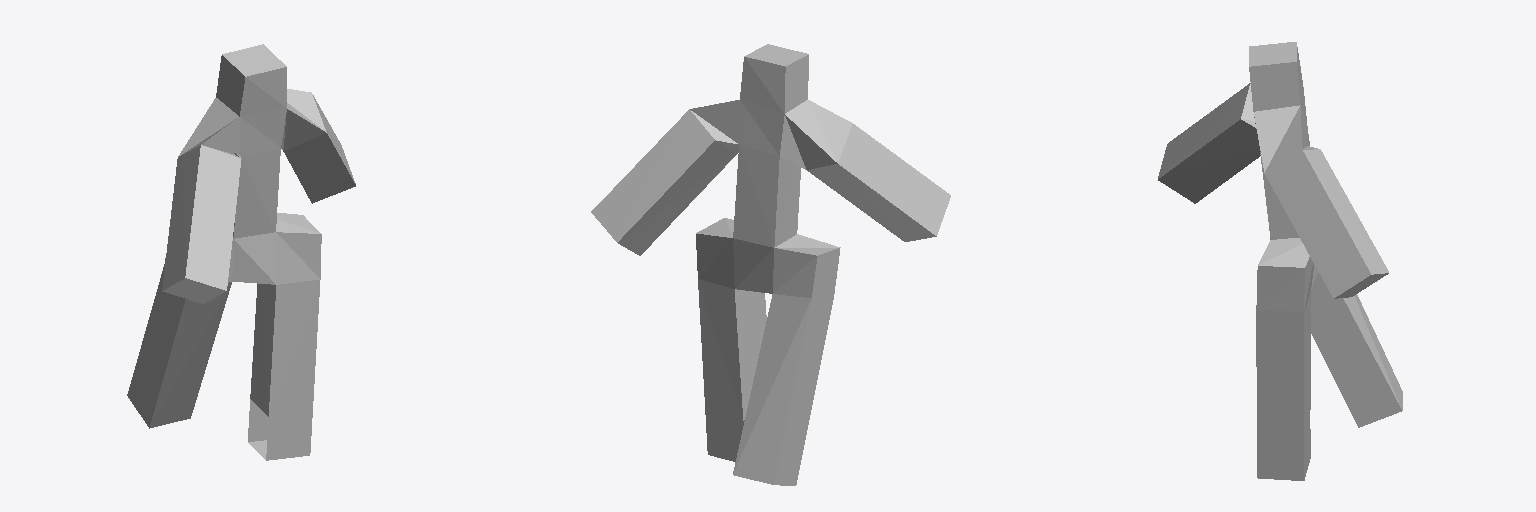
File: cuboid_000020.obj
The picture shows the model from 3 angles: view 1: azimuth 30°, elevation 25°; view 2: azimuth 150°, elevation 25°; view 3: azimuth 270°, elevation 25°; orthographic projection.
Parts seen in each view (by area): view 1: Cube; view 2: Cube; view 3: Cube.
Boxes of the visible parts, <box> form: Cube: <box>127,44,355,460</box>; Cube: <box>591,44,950,485</box>; Cube: <box>1158,42,1402,480</box>.
Size of the model in its own units: 3.16 by 4.64 by 2.55.